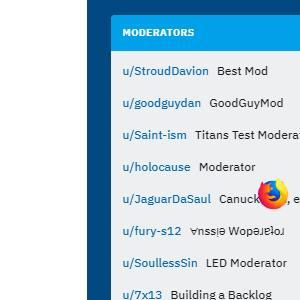firefox: (258, 178, 289, 210)
